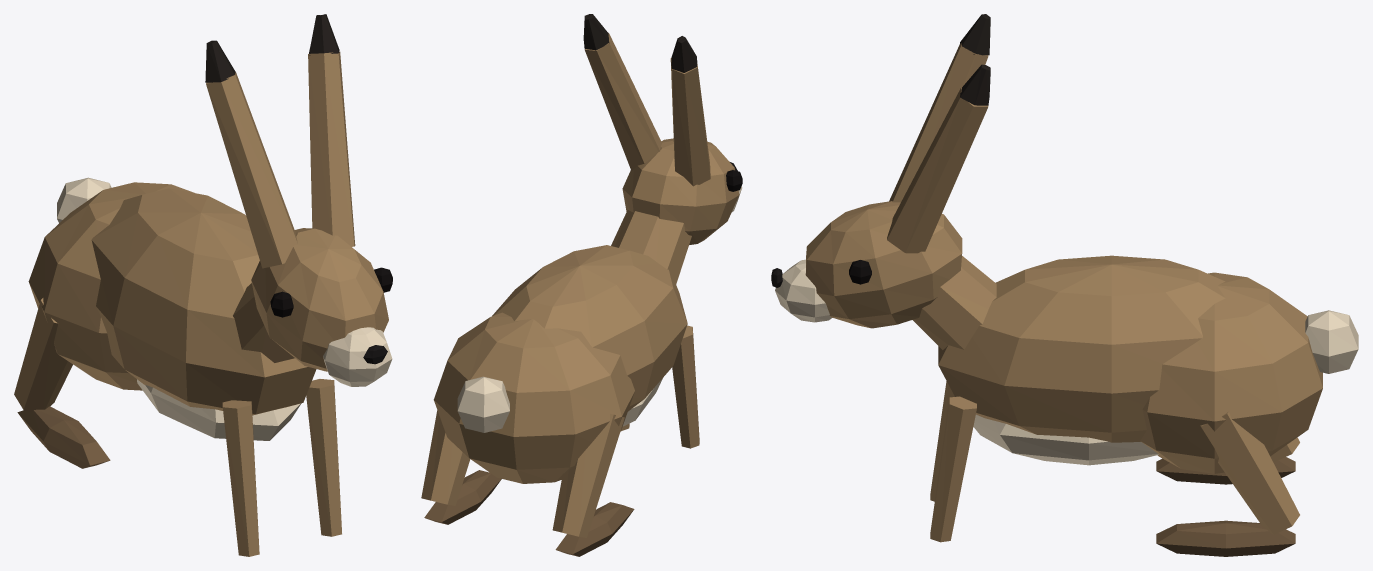
The model's file is hare.obj.
3 renders of one model, left to right at view 1: azimuth 30°, elevation 25°; view 2: azimuth 150°, elevation 25°; view 3: azimuth 270°, elevation 25°, orthographic. The views are drawn at different scales.
Parts seen in each view (by area): view 1: Body, Head.Ear, Head.Skull, Body.Haunch, Leg.FR, Leg.FL, Leg.BR, Leg.BR.Foot, Body.Belly, Head.Muzzle, Head.Neck, Head.Ear.Tip (+2 smaller); view 2: Body.Haunch, Body, Head.Ear, Head.Skull, Leg.BR, Head.Neck, Leg.BL, Body.Tail, Leg.FR, Leg.BR.Foot, Leg.BL.Foot, Head.Ear.Tip (+1 smaller); view 3: Body, Body.Haunch, Head.Skull, Head.Ear, Leg.BL, Body.Belly, Head.Neck, Leg.BL.Foot, Leg.FL, Body.Tail, Head.Muzzle, Head.Ear.Tip (+2 smaller).
Part boxes in pixels (box(x1,y1,x2,y2)): Body: box(91, 188, 316, 415); Head.Ear: box(206, 51, 355, 268); Head.Skull: box(251, 228, 388, 371); Body.Haunch: box(28, 182, 194, 390); Leg.FR: box(222, 400, 259, 556); Leg.FL: box(306, 379, 341, 536); Leg.BR: box(14, 298, 72, 411); Leg.BR.Foot: box(17, 406, 110, 468); Body.Belly: box(137, 379, 301, 440); Head.Muzzle: box(323, 327, 392, 386); Head.Neck: box(233, 283, 294, 362); Head.Ear.Tip: box(205, 14, 339, 82); Body.Haunch: box(433, 312, 634, 483); Body: box(492, 245, 687, 411); Head.Ear: box(584, 33, 710, 186); Head.Skull: box(622, 138, 739, 244); Leg.BR: box(552, 413, 624, 537); Head.Neck: box(611, 210, 691, 285); Leg.BL: box(421, 410, 470, 505); Body.Tail: box(457, 376, 509, 432); Leg.FR: box(672, 325, 699, 448); Leg.BR.Foot: box(555, 502, 634, 556); Leg.BL.Foot: box(424, 470, 501, 524); Head.Ear.Tip: box(583, 14, 697, 72); Body: box(938, 255, 1225, 442); Body.Haunch: box(1140, 272, 1322, 473); Head.Skull: box(805, 201, 962, 328); Head.Ear: box(887, 43, 988, 253); Leg.BL: box(1200, 411, 1299, 534); Body.Belly: box(973, 414, 1158, 465); Head.Neck: box(913, 256, 996, 349); Leg.BL.Foot: box(1156, 520, 1295, 556); Leg.FL: box(930, 396, 976, 542); Body.Tail: box(1305, 310, 1358, 373); Head.Muzzle: box(775, 259, 832, 322); Head.Ear.Tip: box(960, 14, 990, 105).
Size of the model in its own units: 0.2 by 0.463 by 0.514.
